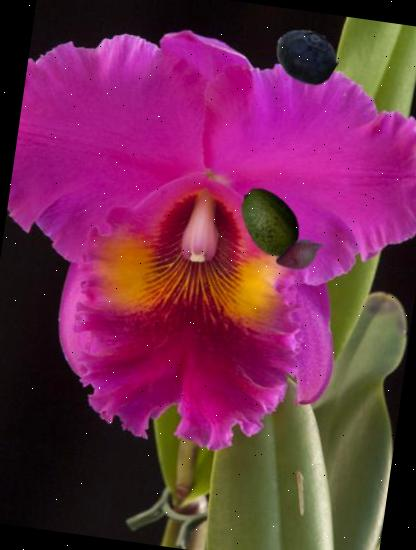Avocado: (228, 179, 314, 265)
Blueberry: (271, 21, 342, 92)
Salak: (271, 226, 331, 286)
